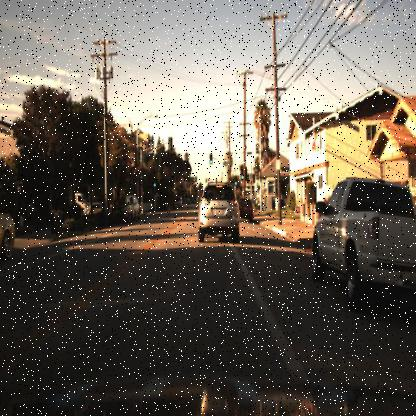car: (295, 162, 415, 326), (192, 172, 246, 247), (107, 190, 132, 228), (84, 194, 116, 220), (107, 196, 133, 223), (235, 196, 256, 226), (84, 198, 110, 218), (71, 188, 85, 221), (133, 195, 144, 223), (171, 192, 185, 214)
trafficLight-Green: (239, 164, 246, 183), (206, 155, 214, 168), (232, 177, 240, 189), (152, 178, 158, 192), (152, 180, 158, 192), (232, 178, 238, 190), (209, 152, 214, 165), (240, 173, 245, 182)
